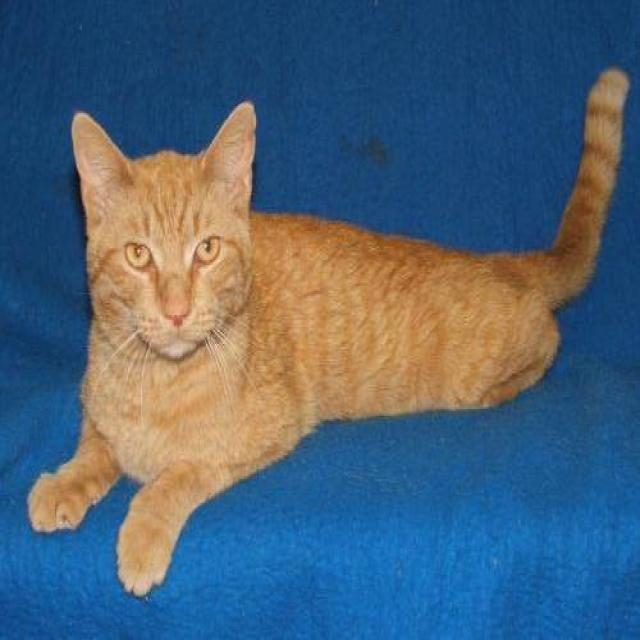cat: (26, 65, 630, 597)
